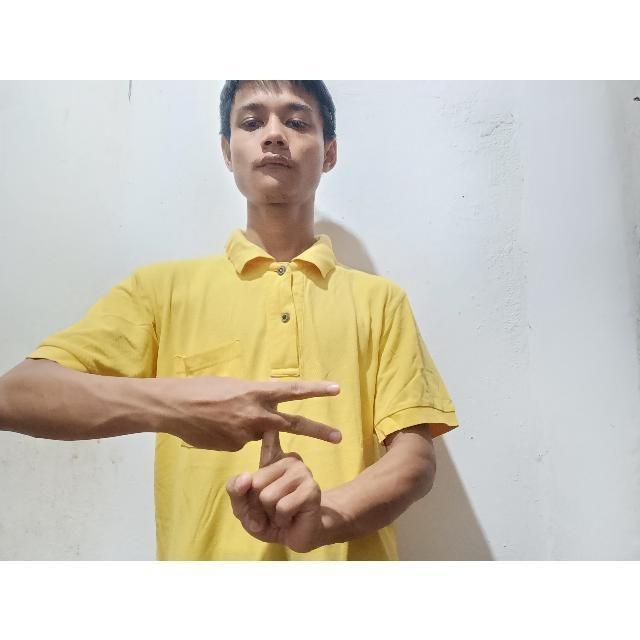F: (204, 362, 348, 550)
